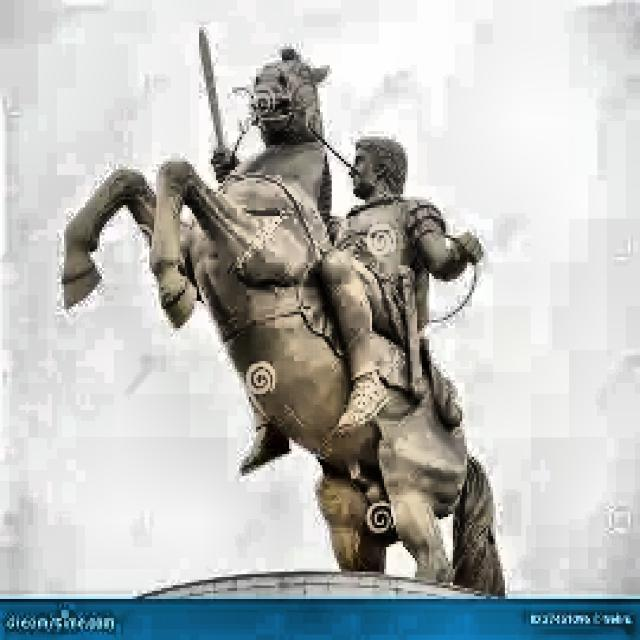alexander the great monument: (52, 19, 510, 597)
